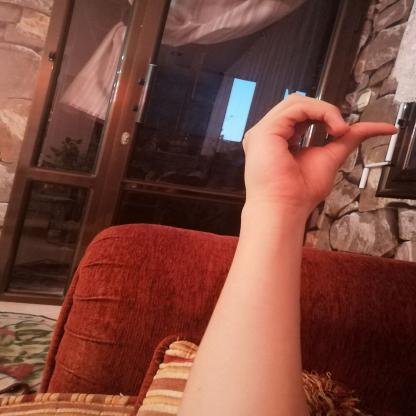WAW: (228, 83, 409, 228)
